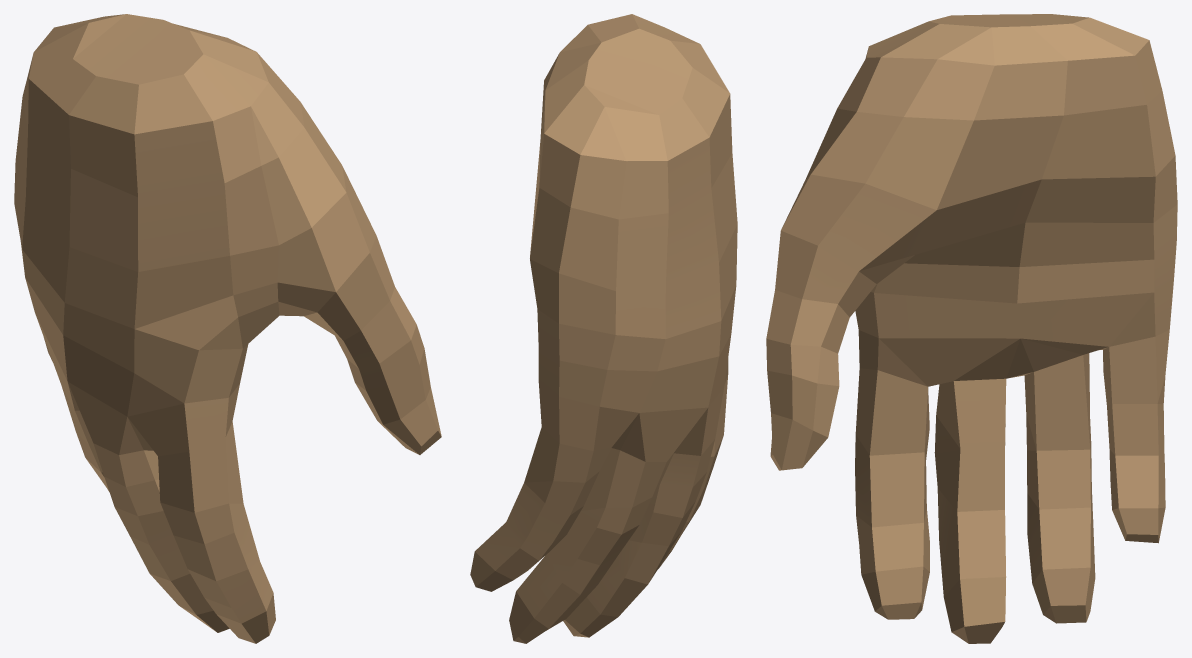
Rendered from RightHand.glb.
3 views of the same model, side by side, from view 1: azimuth 30°, elevation 25°; view 2: azimuth 150°, elevation 25°; view 3: azimuth 270°, elevation 25° (orthographic).
Visible parts, largest first — view 1: RightHand; view 2: RightHand; view 3: RightHand.
Boxes of the visible parts, box(x1,y1,x2,y2) form: RightHand: box(14, 14, 441, 643); RightHand: box(470, 14, 737, 643); RightHand: box(766, 14, 1177, 643).
Size of the model in its own units: 3.82 by 8.04 by 4.98.
1 material, 1 textured.
